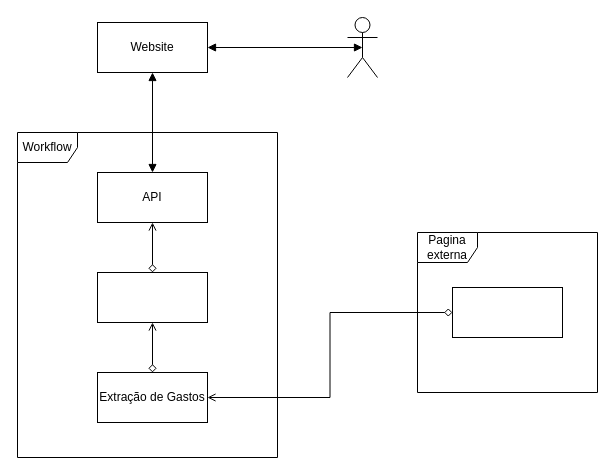
This 615x475 diagram has some shape labels left out. The shapes that lost their labels are listed below. From the top down, each one's centre as x and y in pixels, then its label:
At pixel 362 47: "Usuário".
At pixel 152 297: "Filtragem".
At pixel 507 312: "API PTGF".
